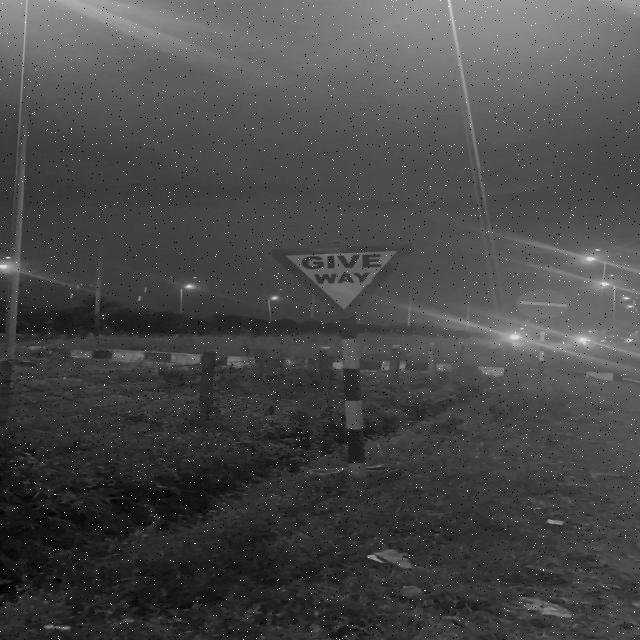giveway: (281, 243, 417, 320)
